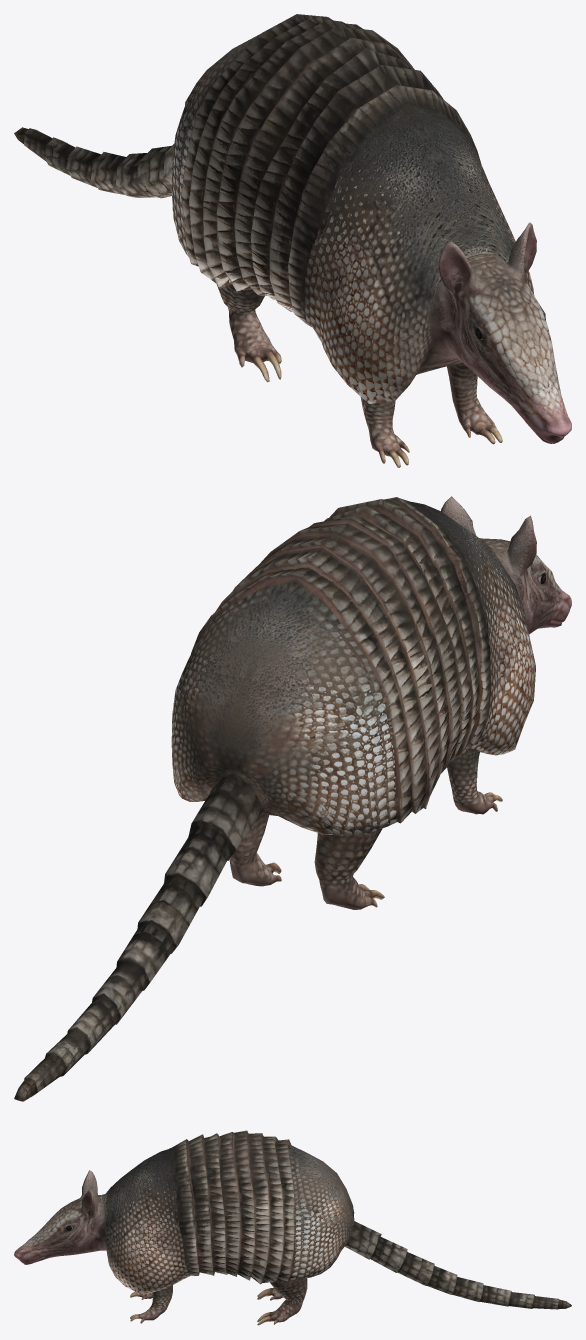
Rendered from armadillo.glb.
3 renders of one model, top to bottom at view 1: azimuth 30°, elevation 25°; view 2: azimuth 150°, elevation 25°; view 3: azimuth 270°, elevation 25°, orthographic. The views are drawn at different scales.
Visible parts, largest first — view 1: sm_1_0_0_0; view 2: sm_1_0_0_0; view 3: sm_1_0_0_0.
Boxes of the visible parts, bbox=[...] form: sm_1_0_0_0: bbox=[14, 14, 571, 467]; sm_1_0_0_0: bbox=[14, 496, 571, 1101]; sm_1_0_0_0: bbox=[14, 1130, 571, 1325].
Size of the model in its own units: 0.1831 by 0.2716 by 0.7689.
Materials: 2 (2 with a texture image).
